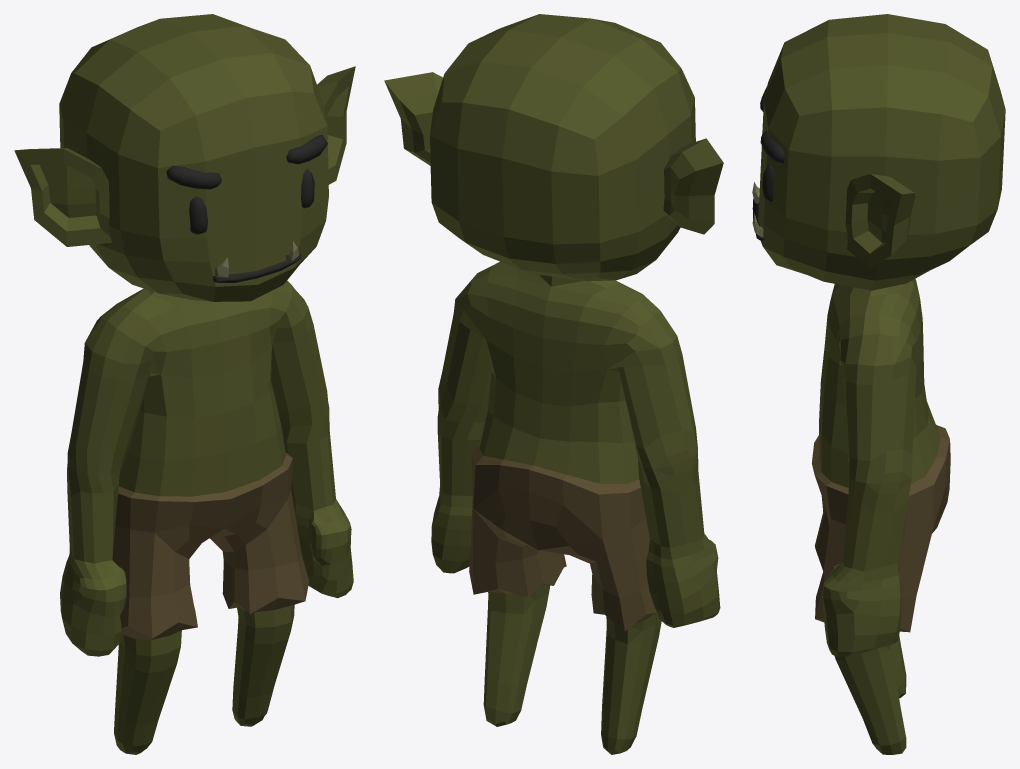
The model's file is Goblin_Male.gltf.
3 renders of one model, left to right at view 1: azimuth 30°, elevation 25°; view 2: azimuth 150°, elevation 25°; view 3: azimuth 270°, elevation 25°, orthographic. The views are drawn at different scales.
Visible parts, largest first — view 1: Body_Cube.004; view 2: Body_Cube.004; view 3: Body_Cube.004.
Part boxes in pixels (x1=…): Body_Cube.004: x1=14, y1=14, x2=355, y2=754; Body_Cube.004: x1=384, y1=14, x2=723, y2=754; Body_Cube.004: x1=752, y1=14, x2=1005, y2=754.
Size of the model in its own units: 1.57 by 3.11 by 1.03.
